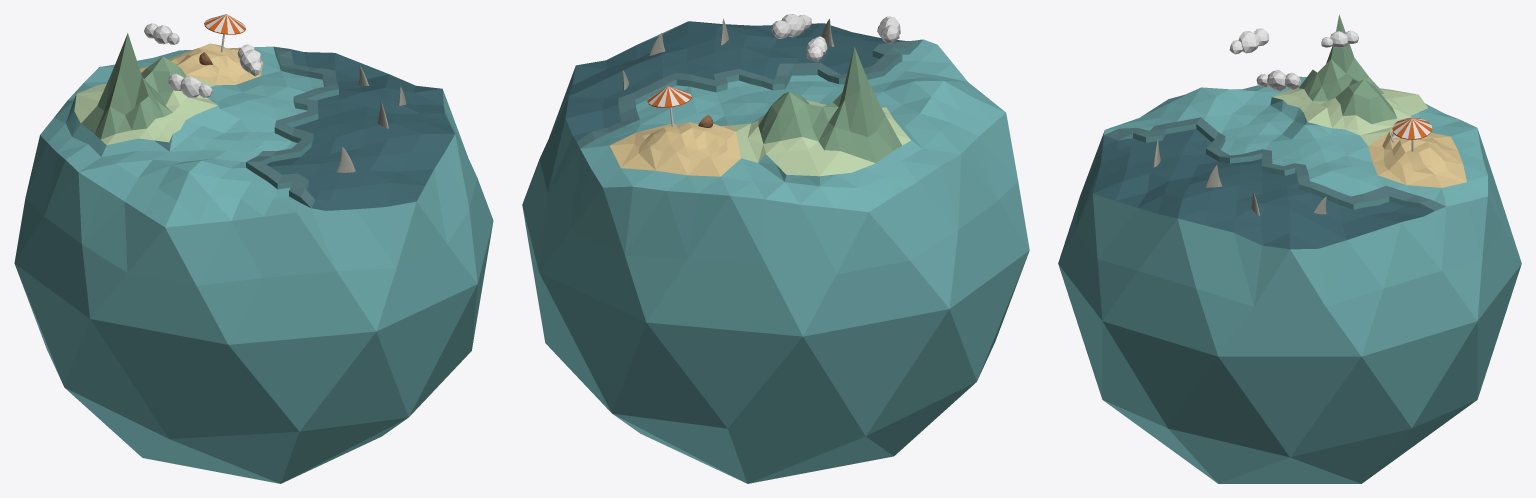
File: beach_with_sharks.dae
The picture shows the model from 3 angles, left to right: view 1: azimuth 30°, elevation 25°; view 2: azimuth 150°, elevation 25°; view 3: azimuth 270°, elevation 25°; orthographic projection. The views are drawn at different scales.
Parts seen in each view (by area): view 1: Icosphere; view 2: Icosphere; view 3: Icosphere.
Boxes of the visible parts, left/top/right/bottom form: Icosphere: left=14, top=14, right=493, bottom=483; Icosphere: left=522, top=14, right=1029, bottom=483; Icosphere: left=1058, top=14, right=1521, bottom=483.
Bounding box in the file's own units: 7.81 × 8.21 × 8.07.
